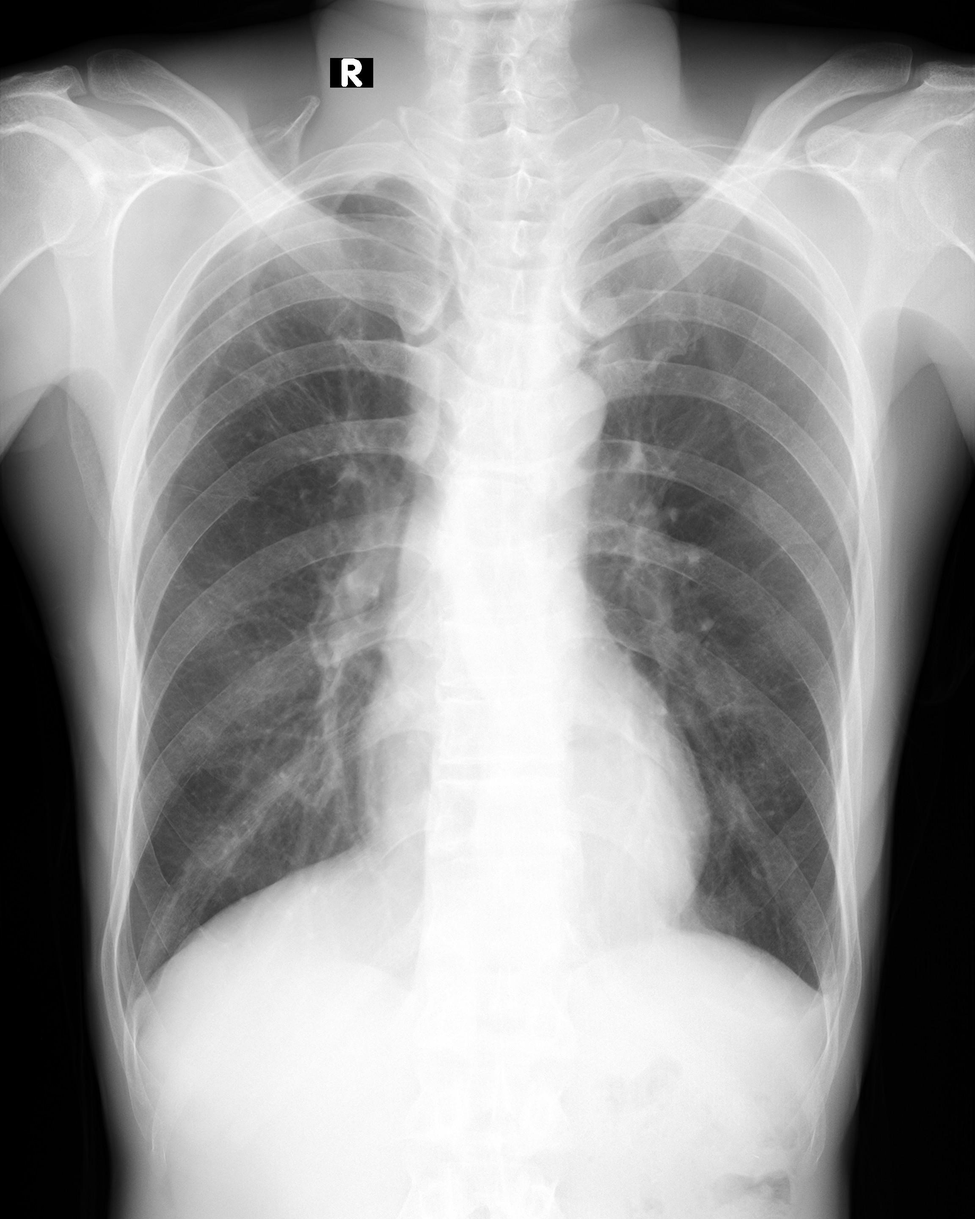Pulmonary fibrosis: (212, 279, 364, 484)
